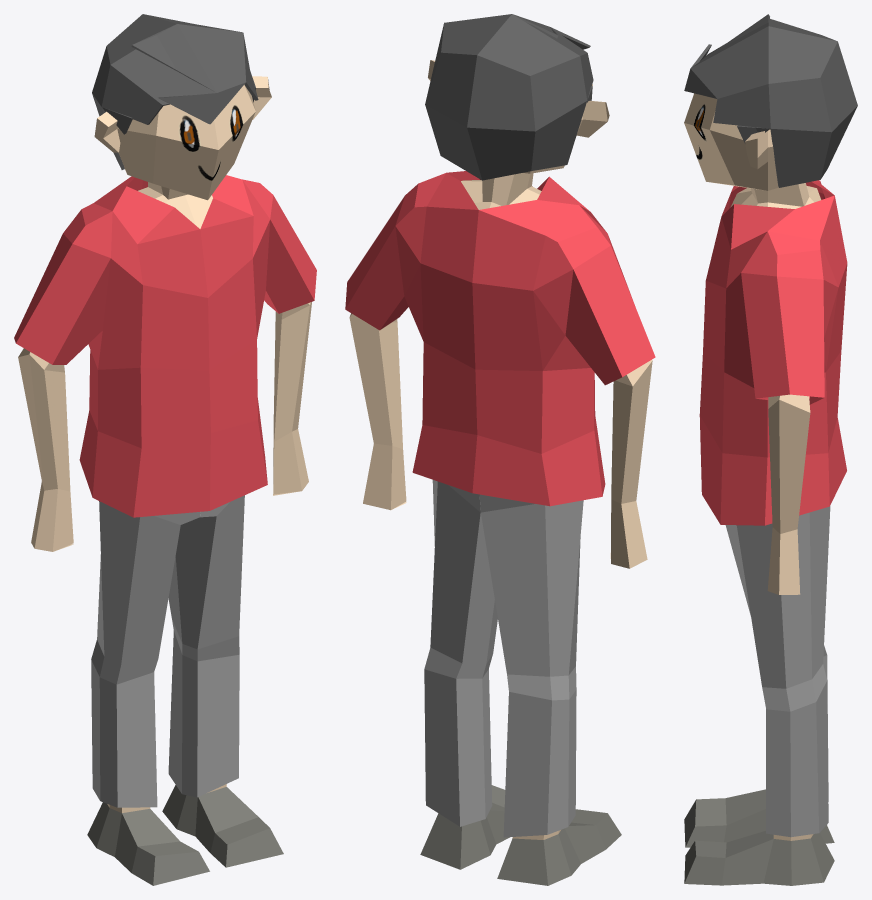
The model's file is NPCA.fbx.
3 views of the same model, side by side, from view 1: azimuth 30°, elevation 25°; view 2: azimuth 150°, elevation 25°; view 3: azimuth 270°, elevation 25° (orthographic). The views are drawn at different scales.
Visible parts, largest first — view 1: Model; view 2: Model; view 3: Model.
Boxes of the visible parts, box(x1,y1,x2,y2) form: Model: box(14, 14, 316, 885); Model: box(345, 14, 655, 885); Model: box(684, 14, 857, 885).
Bounding box in the file's own units: 245 × 635 × 121.
1 material, 1 textured.
